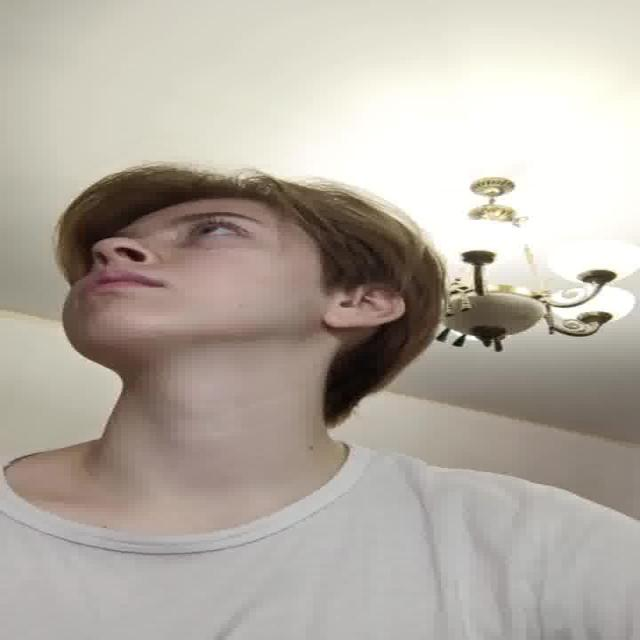earlobe: (325, 282, 408, 330)
